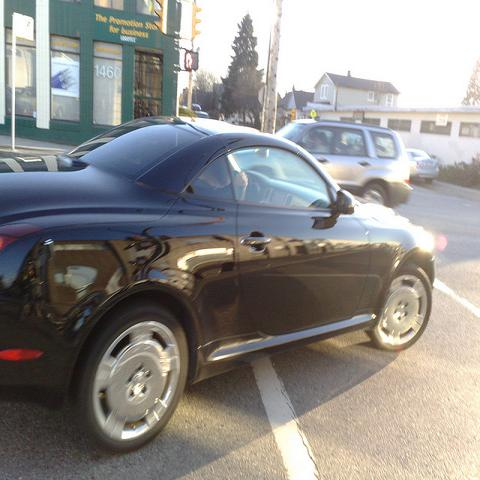car: (0, 117, 436, 452), (282, 121, 407, 204), (406, 148, 440, 185)
